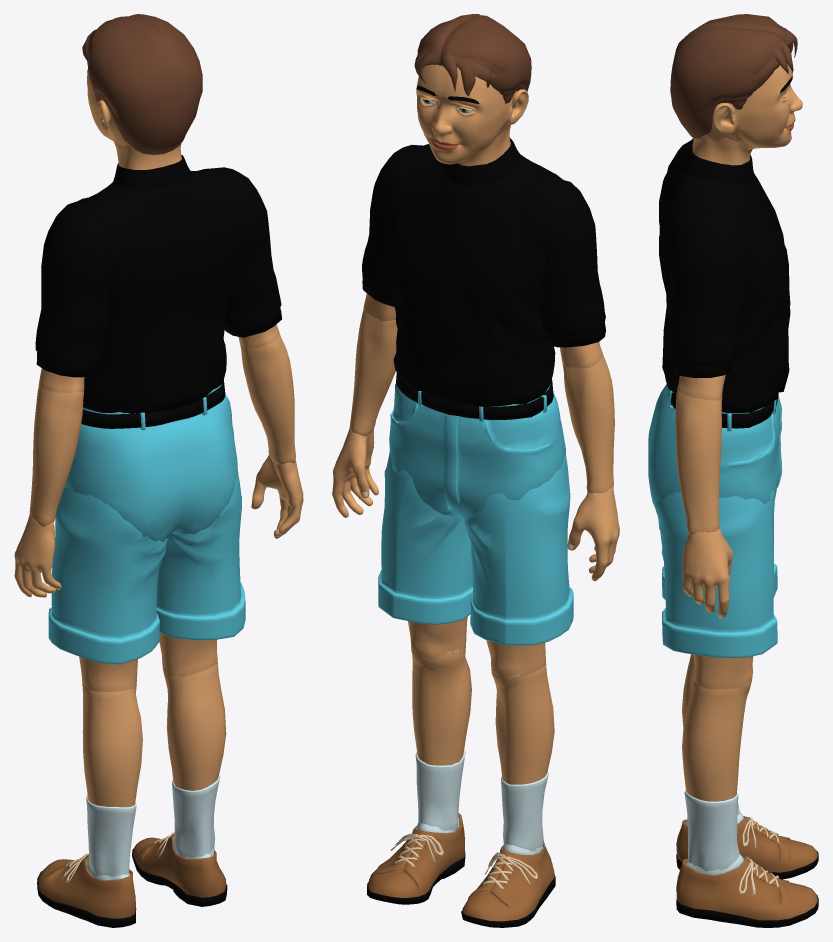
File: Enemy_Placeholder.fbx
The picture shows the model from 3 angles, left to right: view 1: azimuth 30°, elevation 25°; view 2: azimuth 150°, elevation 25°; view 3: azimuth 270°, elevation 25°; orthographic projection.
Visible parts, largest first — view 1: Child_Base_Mesh; view 2: Child_Base_Mesh; view 3: Child_Base_Mesh.
Part boxes in pixels (x1=…): Child_Base_Mesh: x1=14, y1=14, x2=303, y2=927; Child_Base_Mesh: x1=332, y1=14, x2=619, y2=927; Child_Base_Mesh: x1=648, y1=14, x2=818, y2=927.
Size of the model in its own units: 0.1509 by 0.4498 by 0.0799.
